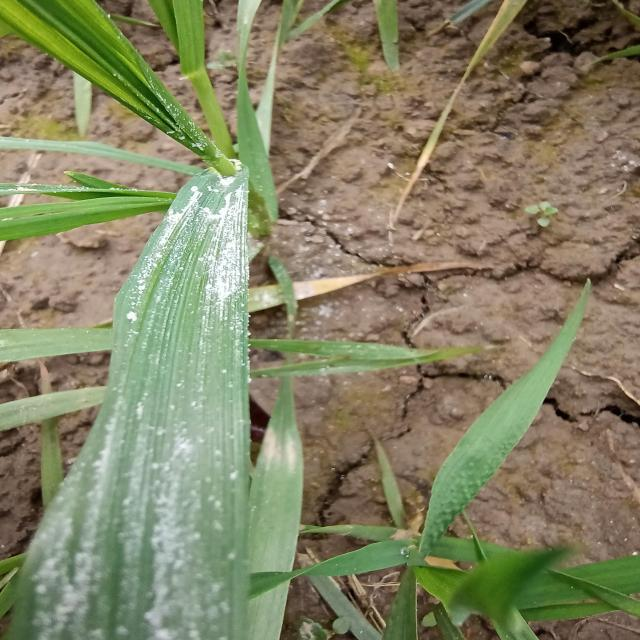Powdery Mildew: (106, 381, 252, 640), (156, 192, 247, 320)
